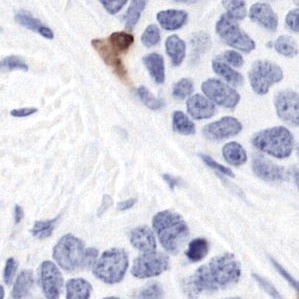Lymphocyte: (110, 31, 136, 51)
